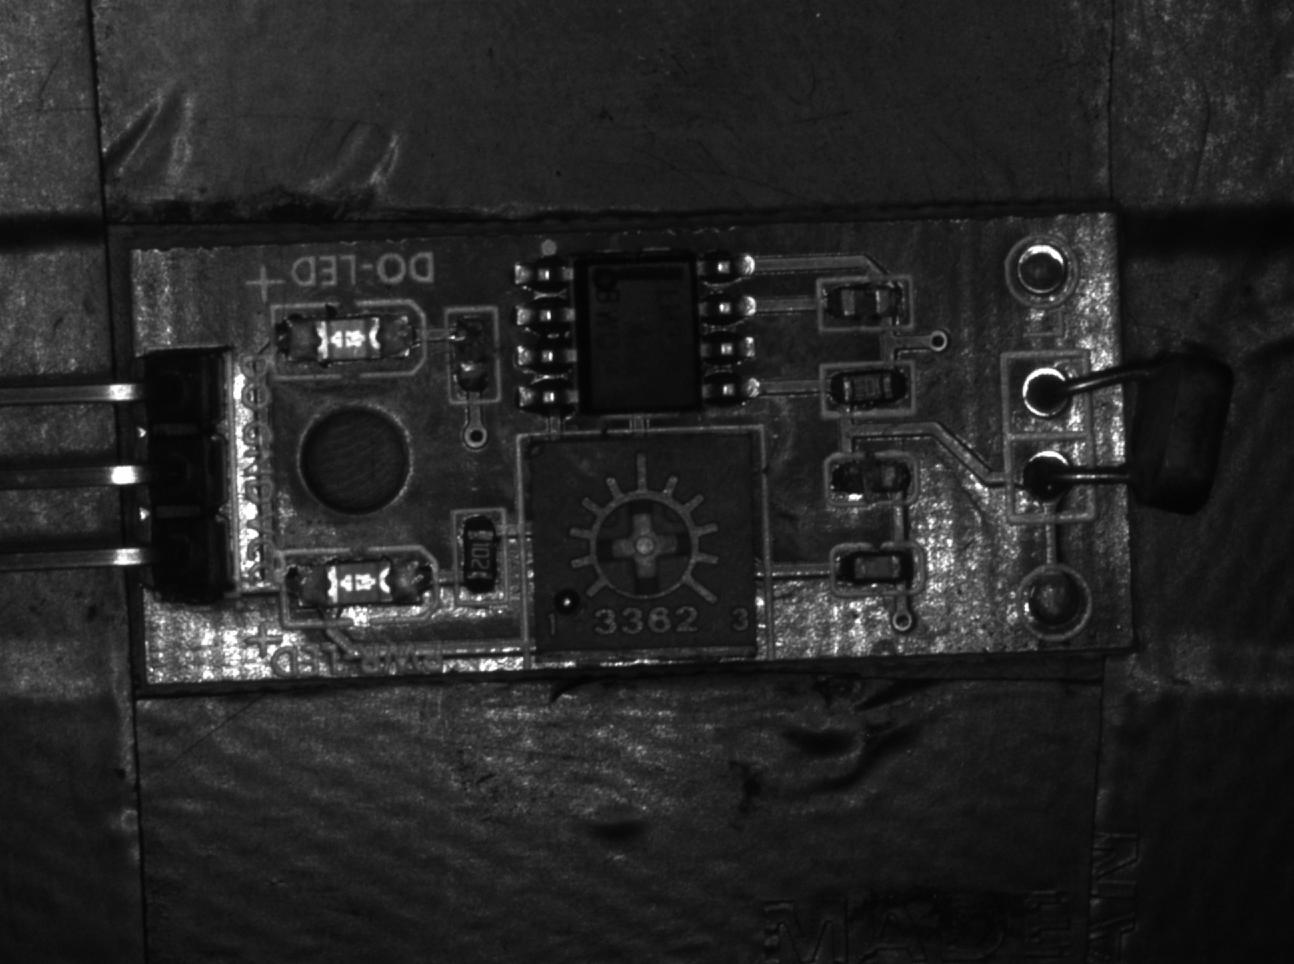miss: (444, 305, 500, 406), (816, 280, 915, 329), (826, 454, 919, 505)
ok: (820, 360, 920, 416), (451, 511, 511, 596), (834, 539, 925, 594)
